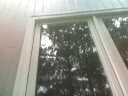window: (41, 25, 86, 95), (108, 19, 127, 37)
